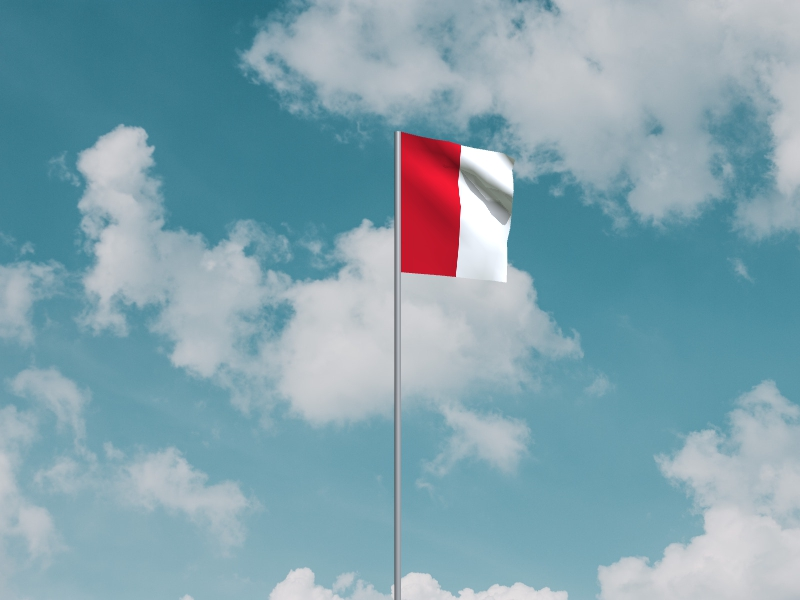mc: (402, 132, 516, 284)
